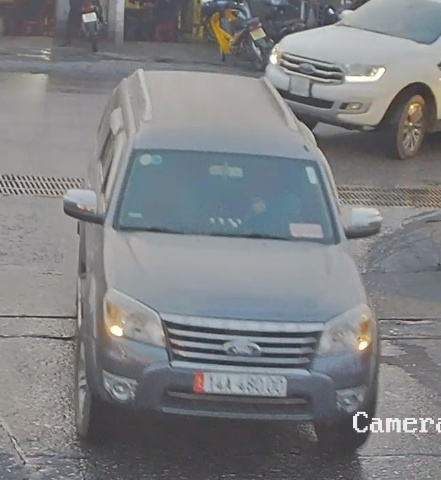vehicle plate: (196, 367, 296, 403)
